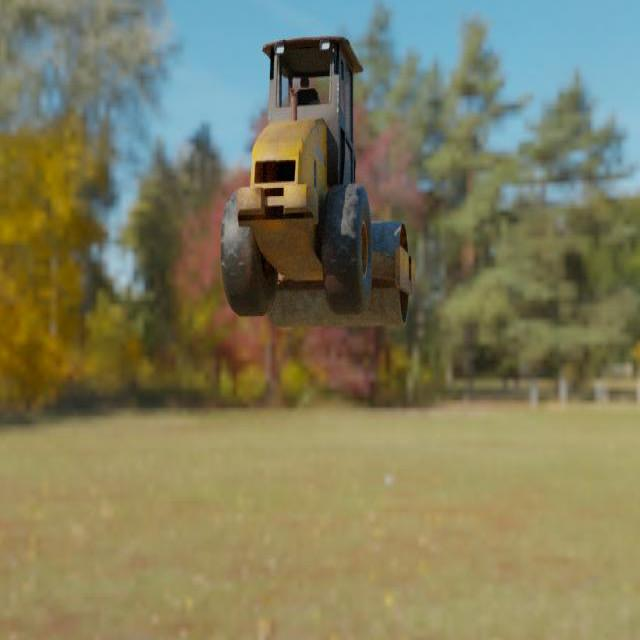Roller: (219, 35, 416, 328)
